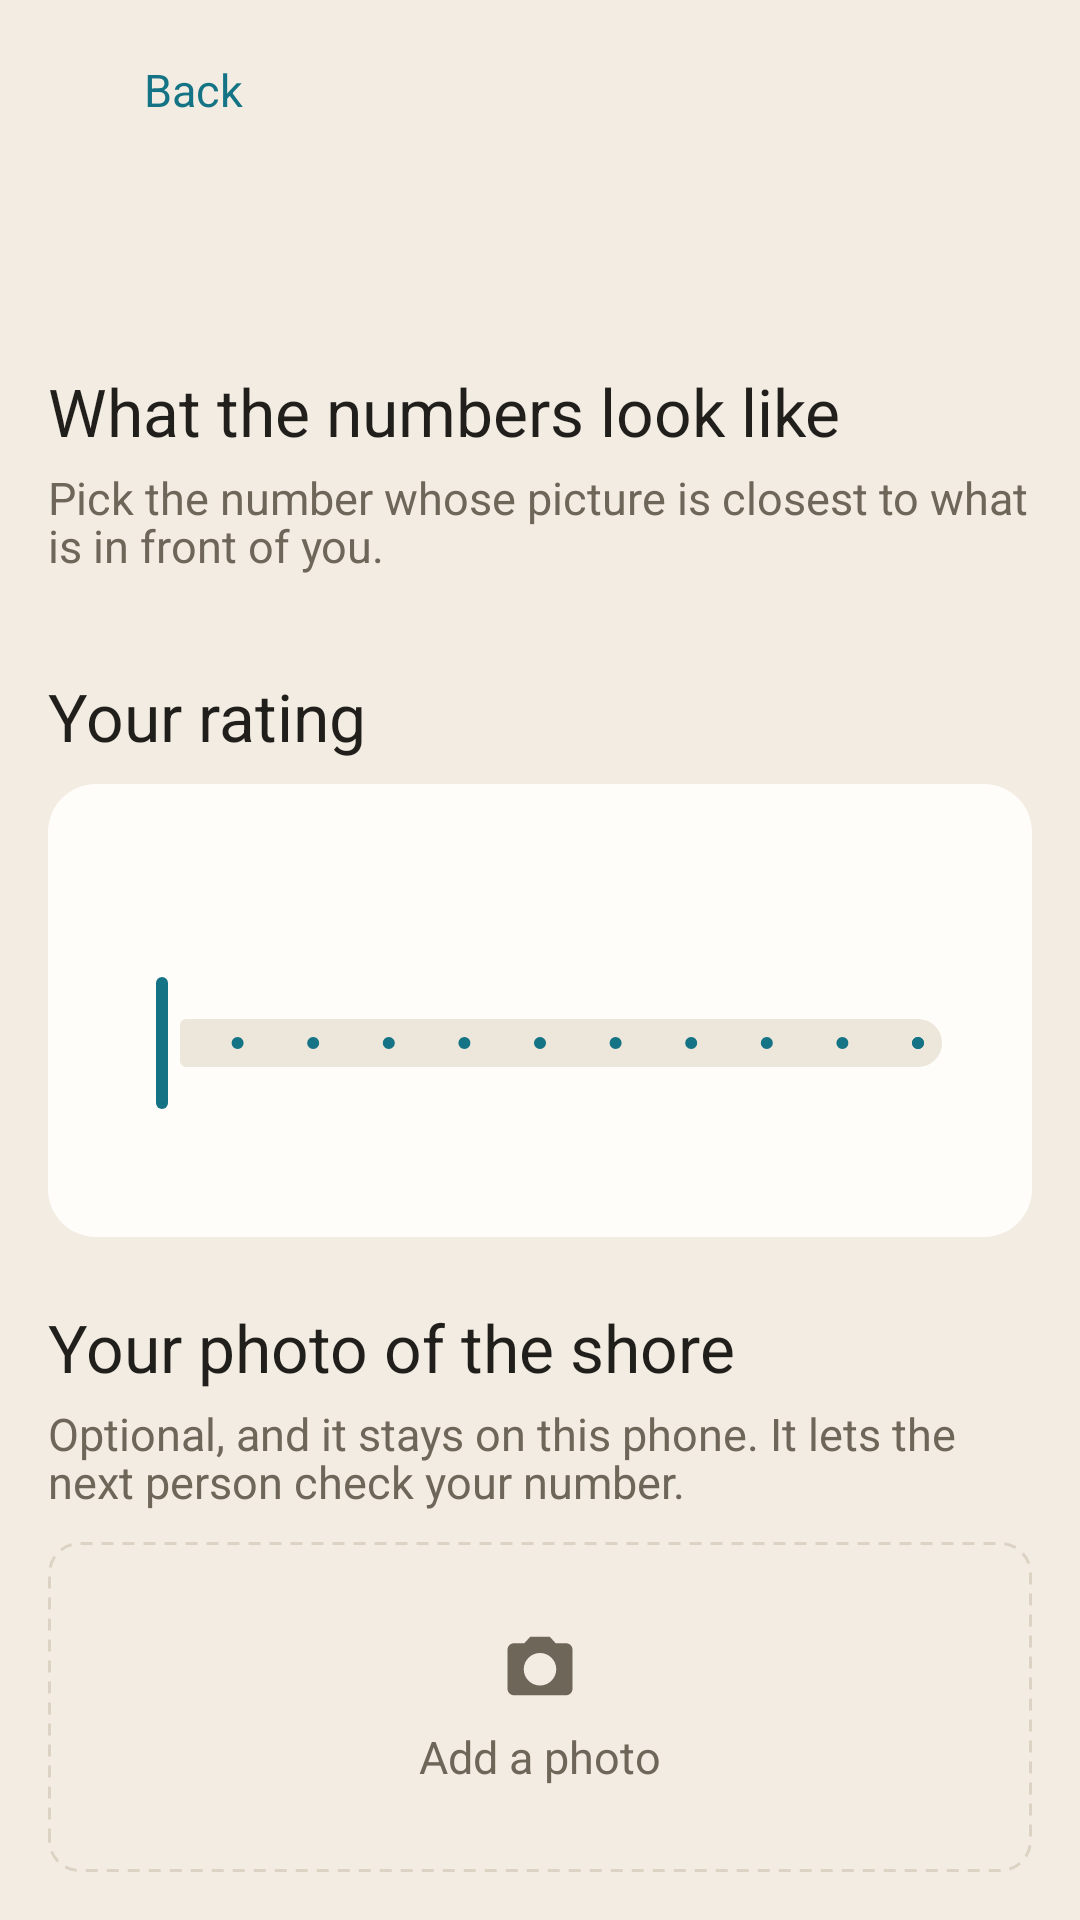

Screen size 1080x1920. Icon name, then its box in pixels as {"left": x1, "top": y1, "right": x2, "bottom": y2}:
camera: {"left": 507, "top": 1636, "right": 573, "bottom": 1696}
